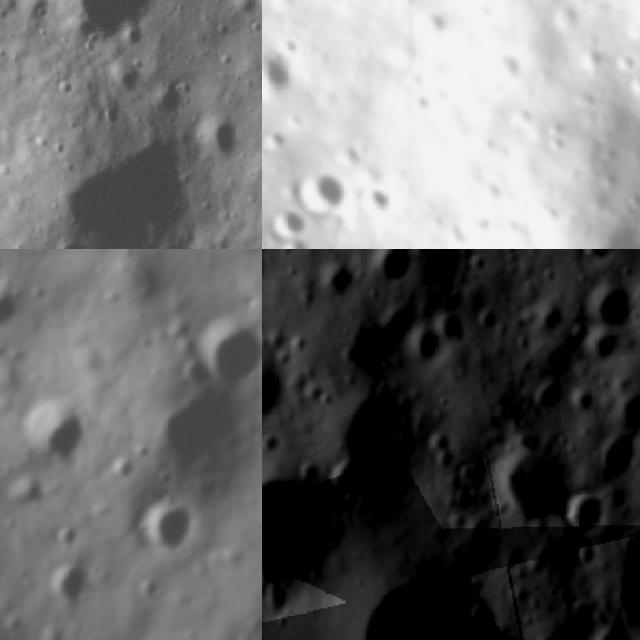crater: (42, 129, 210, 249), (339, 567, 527, 640), (262, 470, 341, 587), (486, 430, 580, 528), (162, 394, 236, 484), (55, 0, 169, 46), (207, 322, 262, 388), (556, 485, 615, 544), (582, 277, 640, 336), (28, 406, 82, 468), (42, 560, 108, 604), (142, 502, 200, 552), (296, 164, 346, 218), (262, 45, 300, 101), (208, 112, 246, 163), (262, 350, 285, 429), (264, 201, 310, 240), (374, 249, 423, 285), (357, 183, 402, 221), (467, 597, 507, 637), (318, 261, 352, 296), (0, 287, 23, 329), (590, 620, 637, 640), (180, 360, 206, 390), (45, 235, 96, 249), (577, 249, 616, 267)
